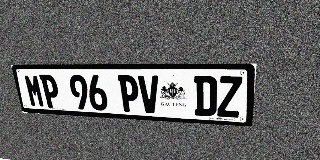6: (86, 75, 109, 111)
9: (68, 75, 91, 110)
D: (194, 76, 217, 116)
M: (23, 74, 46, 107)
P: (118, 75, 140, 112), (39, 74, 61, 108)
V: (138, 75, 160, 114)
Z: (217, 76, 242, 118)
